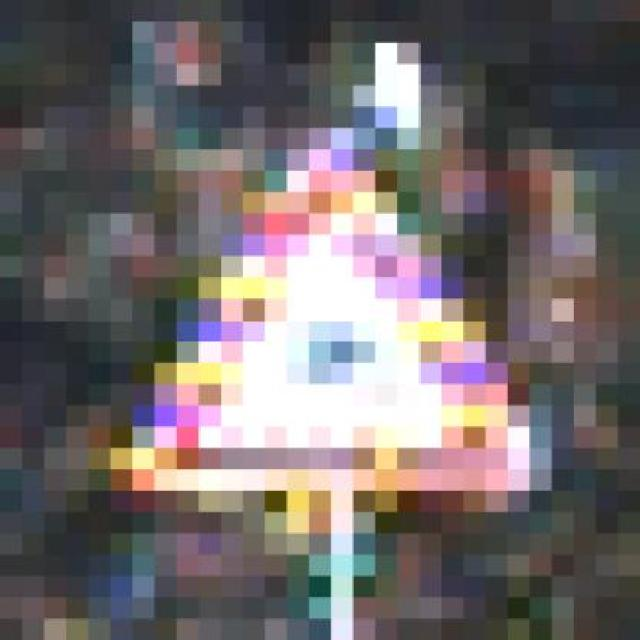Left Zig Zag Traffic: (111, 85, 574, 533)
